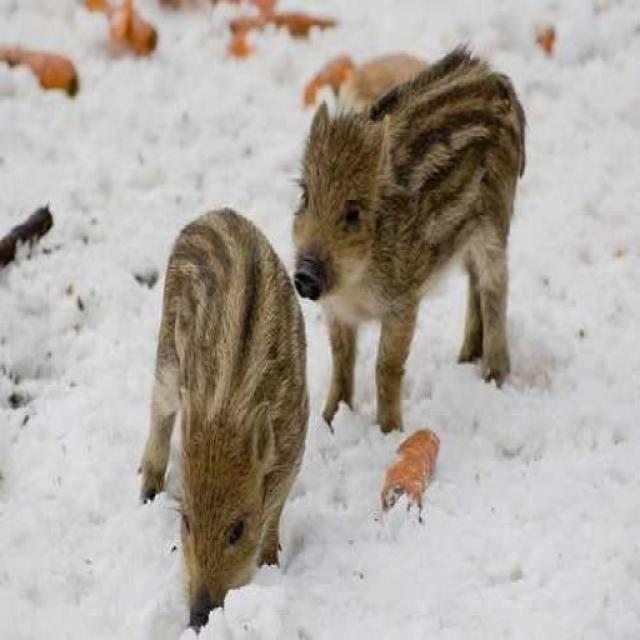pig: (285, 55, 576, 438), (118, 193, 312, 613)
